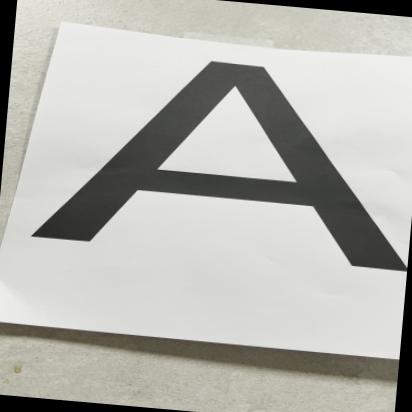seat: (11, 25, 412, 297)
